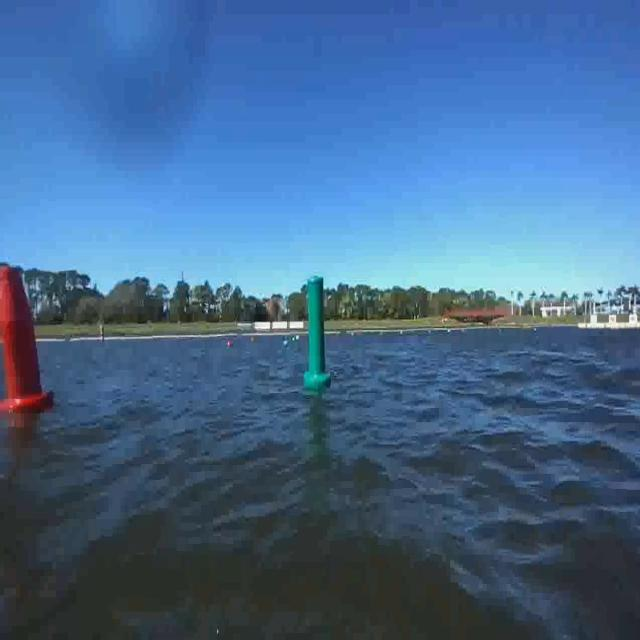green-column-buoy: (304, 274, 332, 391)
red-column-buoy: (0, 264, 53, 415)
